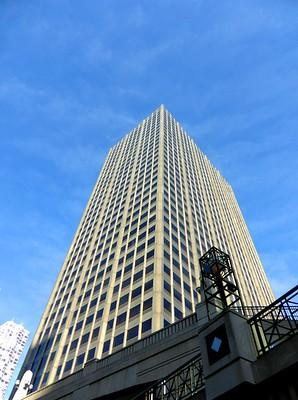building: (19, 102, 286, 394)
